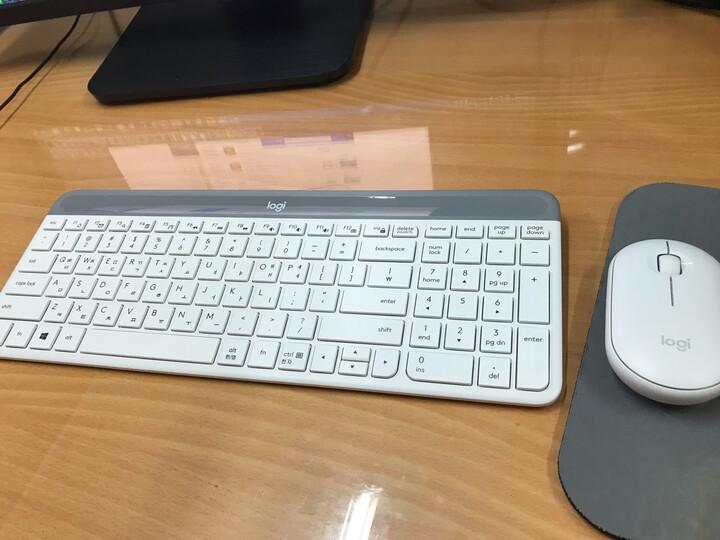keyboard: (0, 190, 564, 407)
mouse: (603, 237, 719, 406)
